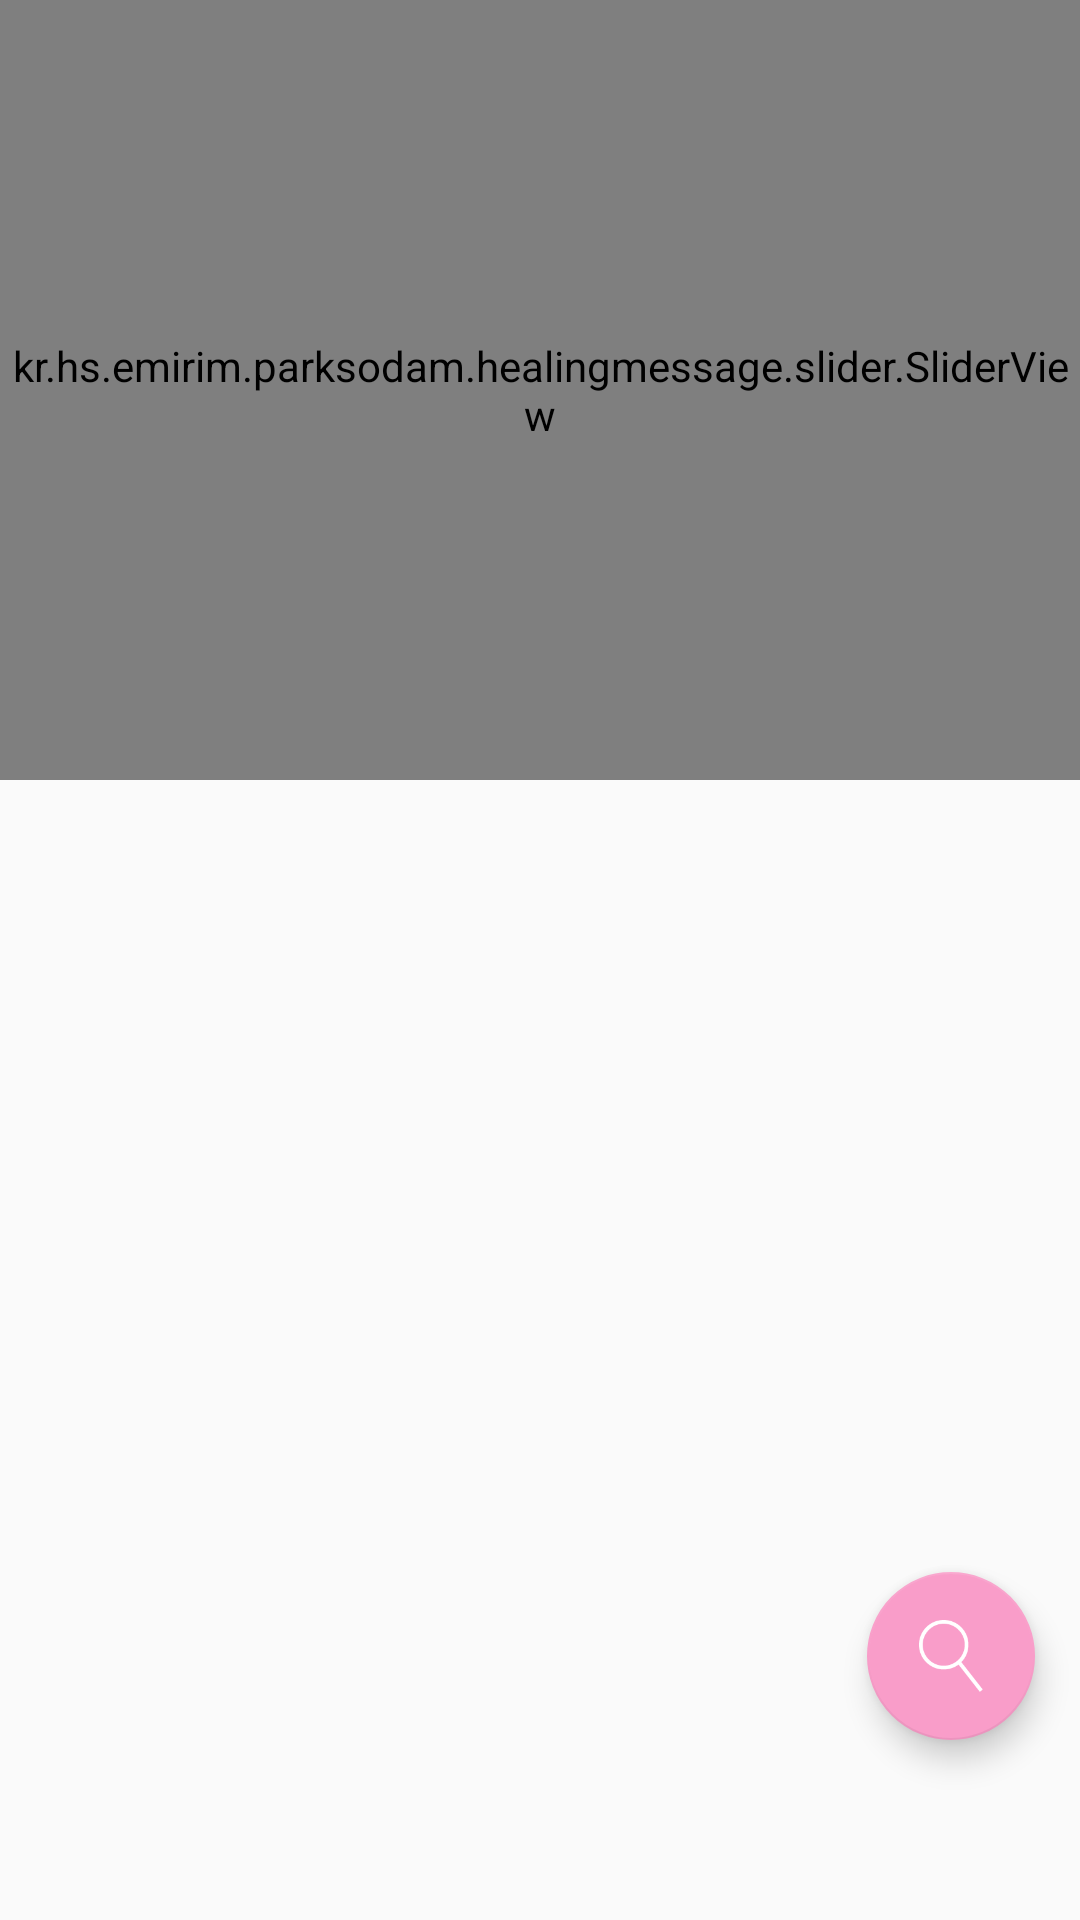

Named icons in this screenshot (1080*1920) and their bounding boxes, {"left": x1, "top": y1, "right": x2, "bottom": y2}:
search: {"left": 867, "top": 1572, "right": 1035, "bottom": 1740}
